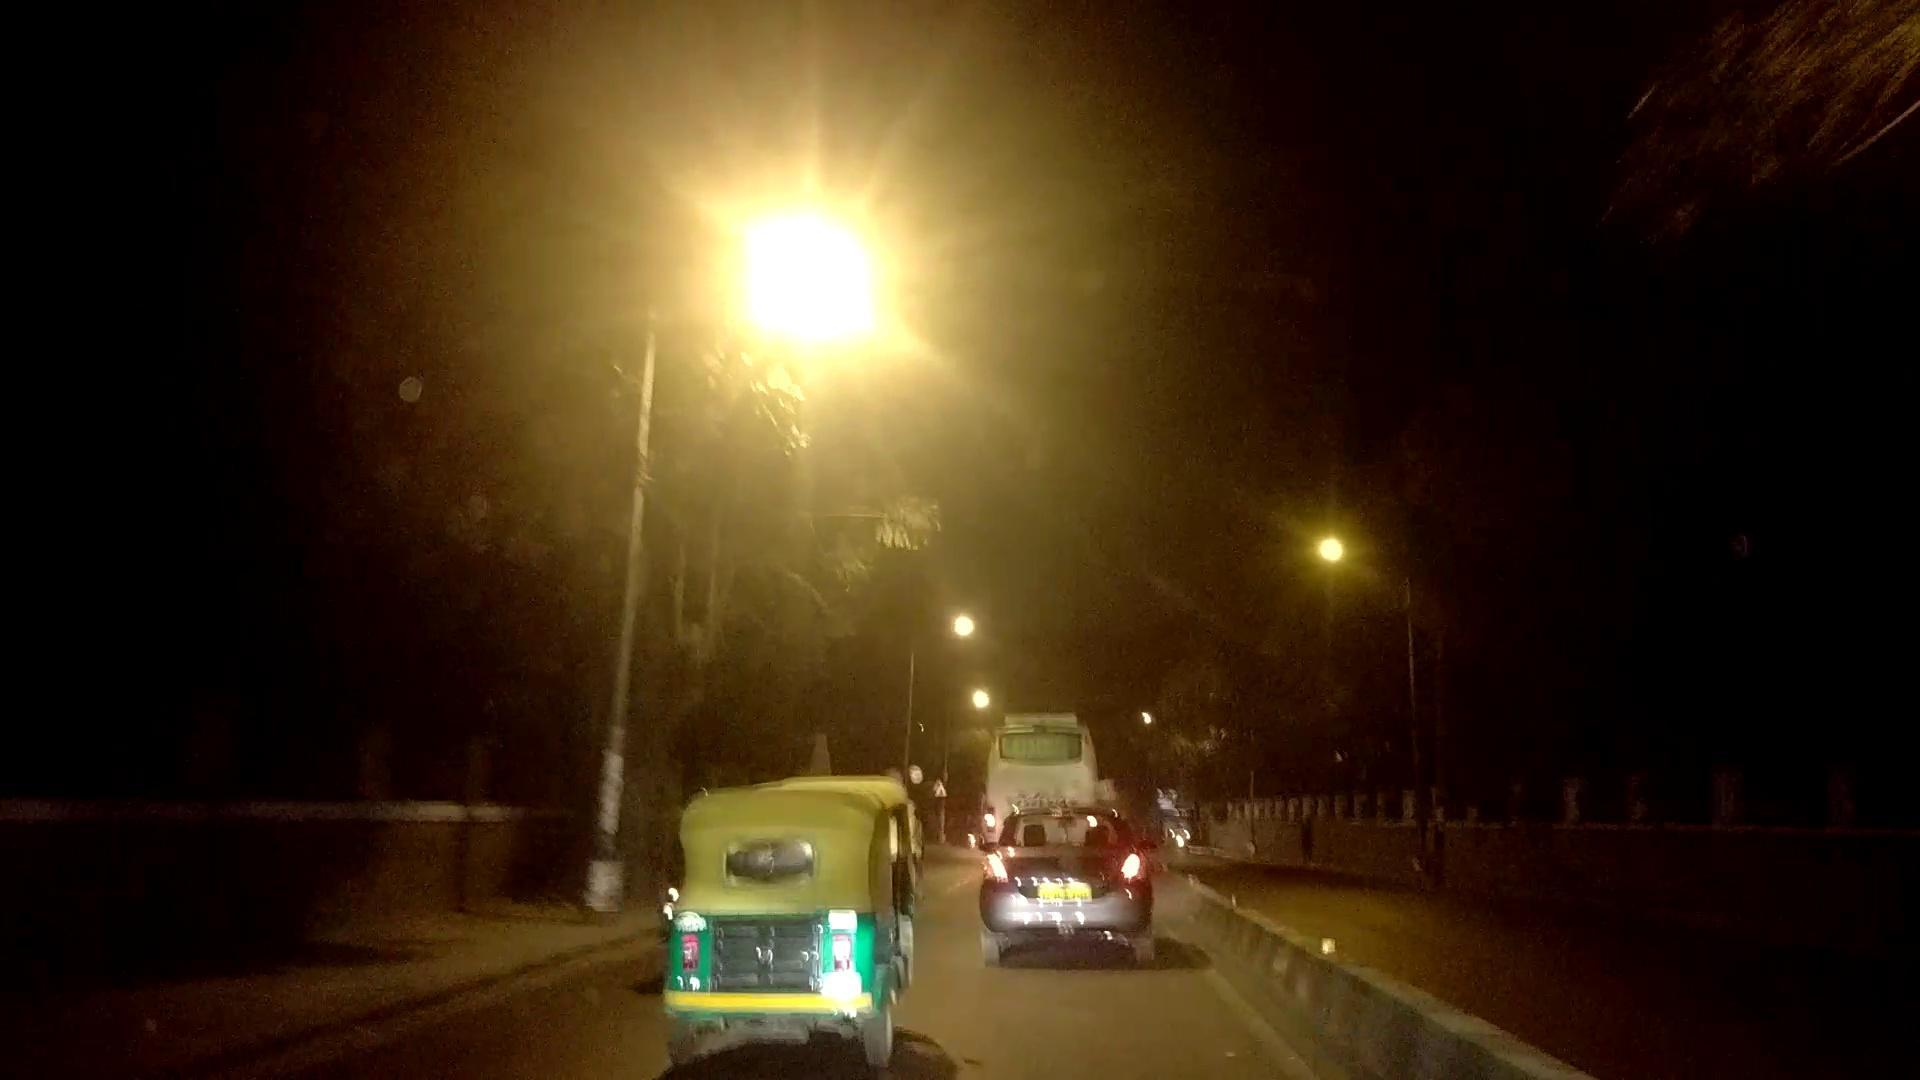on: (589, 92, 1047, 563)
